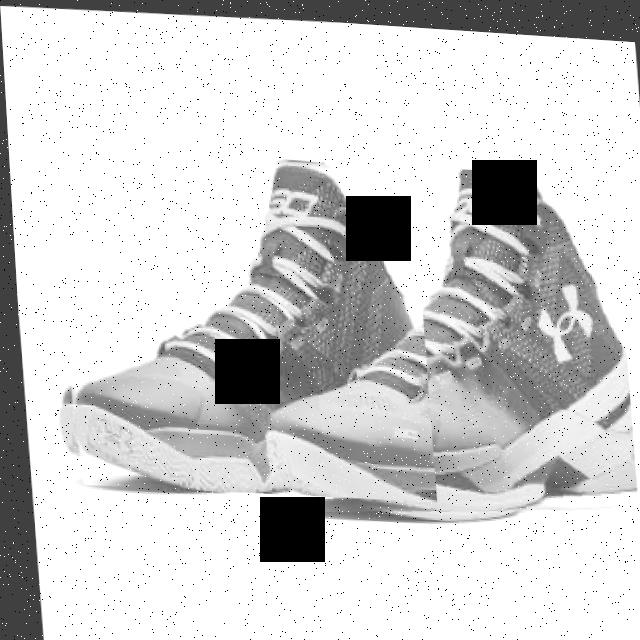shoe: (231, 148, 634, 527), (37, 136, 431, 502)
